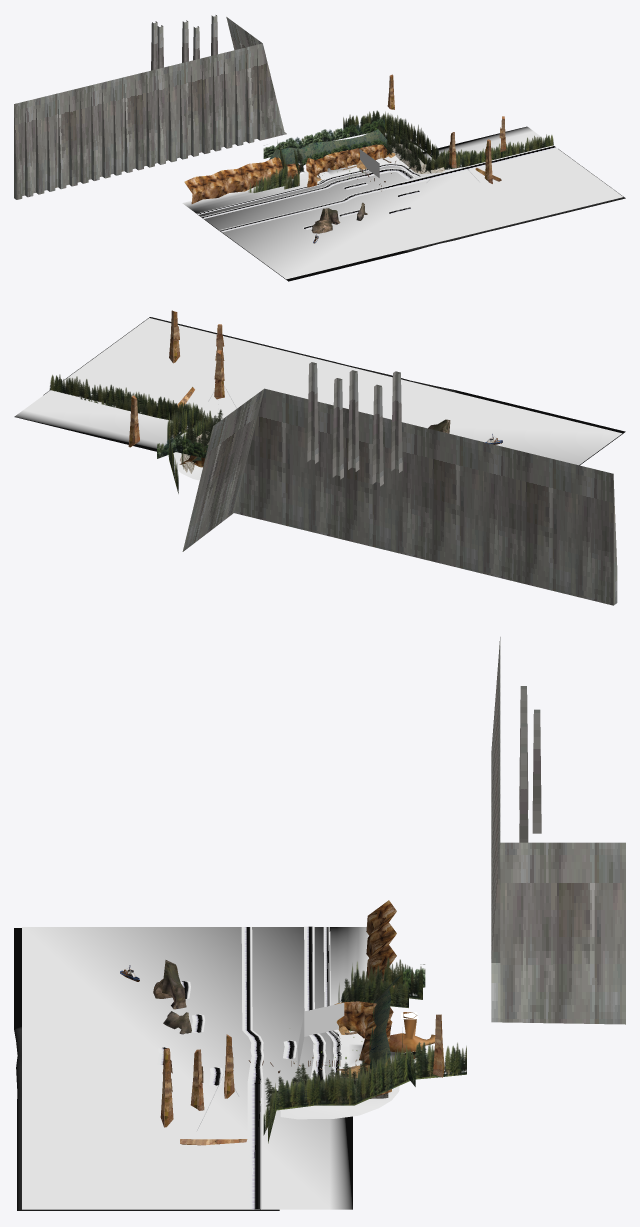
File: background.glb
The picture shows the model from 3 angles, top to bottom: view 1: azimuth 30°, elevation 25°; view 2: azimuth 150°, elevation 25°; view 3: azimuth 270°, elevation 25°; orthographic projection. The views are drawn at different scales.
Parts seen in each view (by area): view 1: structure_mega_corp, ocean, treeline_001, cave, shore, sand, treeline, tree, Cube, tree_001, archway, sand_hill; view 2: structure_mega_corp, ocean, treeline_001, Cube, sand, treeline, tree_001; view 3: ocean, structure_mega_corp, treeline_001, shore, sand, cave, Cube, archway, tree, bounds, tree_001.
Boxes of the visible parts, x1,y1,x2,y2 form: structure_mega_corp: (14,15,286,199); ocean: (199,126,622,279); treeline_001: (248,110,553,192); cave: (184,144,389,203); shore: (197,145,557,232); sand: (182,149,625,281); treeline: (263,118,387,165); tree: (269,129,387,164); Cube: (387,74,506,183); tree_001: (296,132,431,173); archway: (311,173,403,233); sand_hill: (390,143,444,173); structure_mega_corp: (182,362,617,605); ocean: (14,318,622,465); treeline_001: (49,374,212,493); Cube: (128,310,224,447); sand: (43,317,625,480); treeline: (157,435,208,462); tree_001: (185,409,222,465); ocean: (22,927,352,1209); structure_mega_corp: (491,637,625,1024); treeline_001: (263,957,466,1143); shore: (157,926,342,1209); sand: (14,927,415,1210); cave: (334,900,435,1096); Cube: (160,1014,444,1145); archway: (153,960,313,1082); tree: (369,975,401,1070); bounds: (297,1003,344,1068); tree_001: (265,978,382,1106).
Bounding box in the file's own units: 973 × 304 × 638.
Materials: 24 (18 with a texture image).
